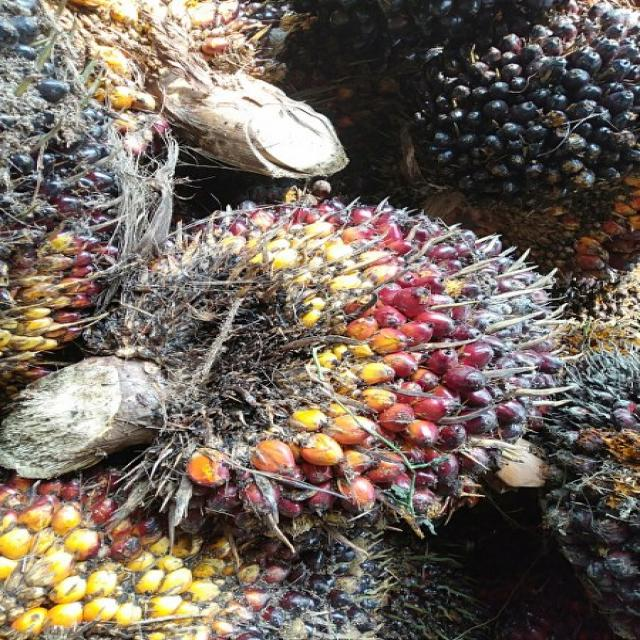fraksi 00: (386, 0, 640, 232)
fraksi 1: (61, 171, 557, 562)
